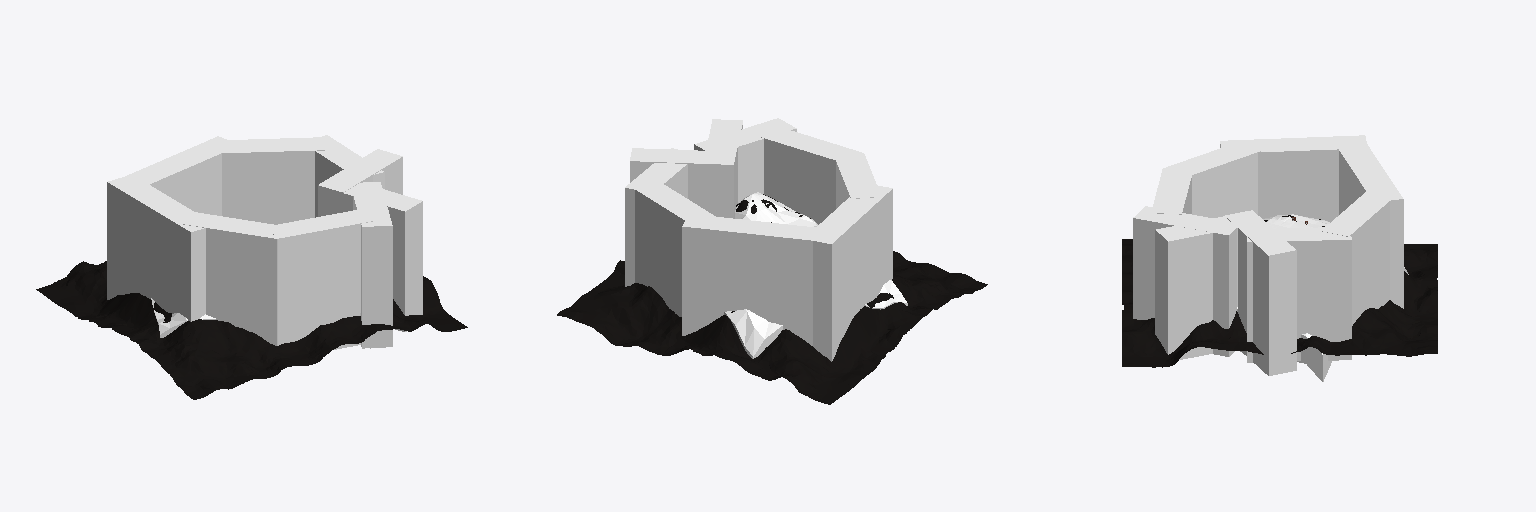
3 renders of one model, left to right at view 1: azimuth 30°, elevation 25°; view 2: azimuth 150°, elevation 25°; view 3: azimuth 270°, elevation 25°, orthographic.
Parts seen in each view (by area): view 1: Polygon_Reduction.1, proxy__1, proxy__3, proxy__2, proxy__8, proxy__4, proxy_, proxy__5, proxy__6, proxy__7; view 2: Polygon_Reduction.1, proxy_, proxy__1, proxy__3, proxy__8, proxy__6, proxy__9, proxy__4, proxy__7, proxy__2, proxy__5; view 3: Polygon_Reduction.1, proxy__6, proxy__7, proxy__1, proxy__5, proxy__4, proxy__8, proxy__2, proxy_, proxy__3, proxy__9.
Part boxes in pixels (left/top/right/bottom): Polygon_Reduction.1: left=36, top=261, right=467, bottom=399; proxy__1: left=107, top=175, right=205, bottom=321; proxy__3: left=266, top=209, right=372, bottom=349; proxy__2: left=179, top=211, right=277, bottom=345; proxy__8: left=219, top=137, right=324, bottom=224; proxy__4: left=351, top=182, right=392, bottom=348; proxy_: left=127, top=136, right=226, bottom=215; proxy__5: left=343, top=189, right=422, bottom=331; proxy__6: left=318, top=149, right=402, bottom=216; proxy__7: left=315, top=135, right=384, bottom=217; Polygon_Reduction.1: left=557, top=194, right=987, bottom=404; proxy_: left=682, top=217, right=815, bottom=345; proxy__1: left=804, top=185, right=892, bottom=361; proxy__3: left=761, top=127, right=861, bottom=224; proxy__8: left=632, top=180, right=715, bottom=316; proxy__6: left=630, top=148, right=736, bottom=218; proxy__9: left=724, top=192, right=907, bottom=358; proxy__4: left=694, top=118, right=796, bottom=202; proxy__7: left=625, top=148, right=687, bottom=286; proxy__2: left=836, top=153, right=881, bottom=208; proxy__5: left=708, top=119, right=742, bottom=203; Polygon_Reduction.1: left=1122, top=215, right=1437, bottom=367; proxy__6: left=1225, top=210, right=1296, bottom=375; proxy__7: left=1247, top=227, right=1351, bottom=362; proxy__1: left=1220, top=135, right=1367, bottom=222; proxy__5: left=1155, top=216, right=1237, bottom=359; proxy__4: left=1133, top=206, right=1236, bottom=356; proxy__8: left=1322, top=191, right=1393, bottom=325; proxy__2: left=1163, top=141, right=1262, bottom=217; proxy_: left=1339, top=144, right=1403, bottom=308; proxy__3: left=1151, top=169, right=1192, bottom=214; proxy__9: left=1237, top=214, right=1408, bottom=381.
Bounding box in the file's own units: 2109 × 987 × 2047.
Materials: 4 (1 with a texture image).